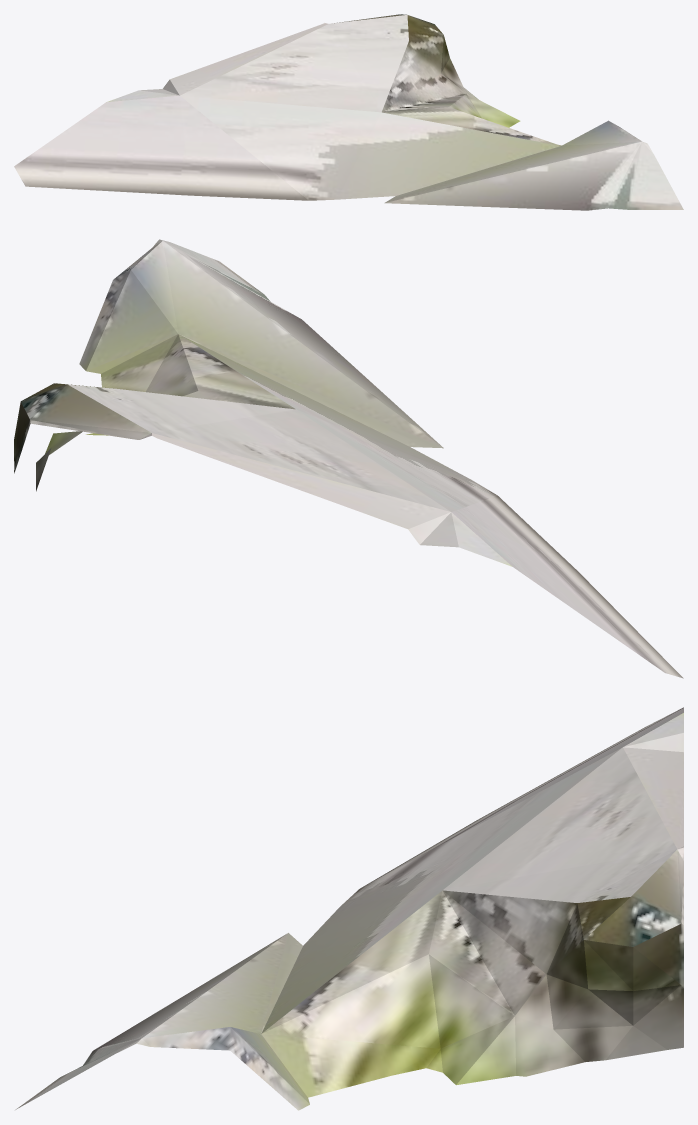
3 views of the same model, one above another, from view 1: azimuth 30°, elevation 25°; view 2: azimuth 150°, elevation 25°; view 3: azimuth 270°, elevation 25° (orthographic). The views are drawn at different scales.
Bounding box in the file's own units: 1.67 × 0.282 × 1.24.
Materials: 2 (2 with a texture image).
